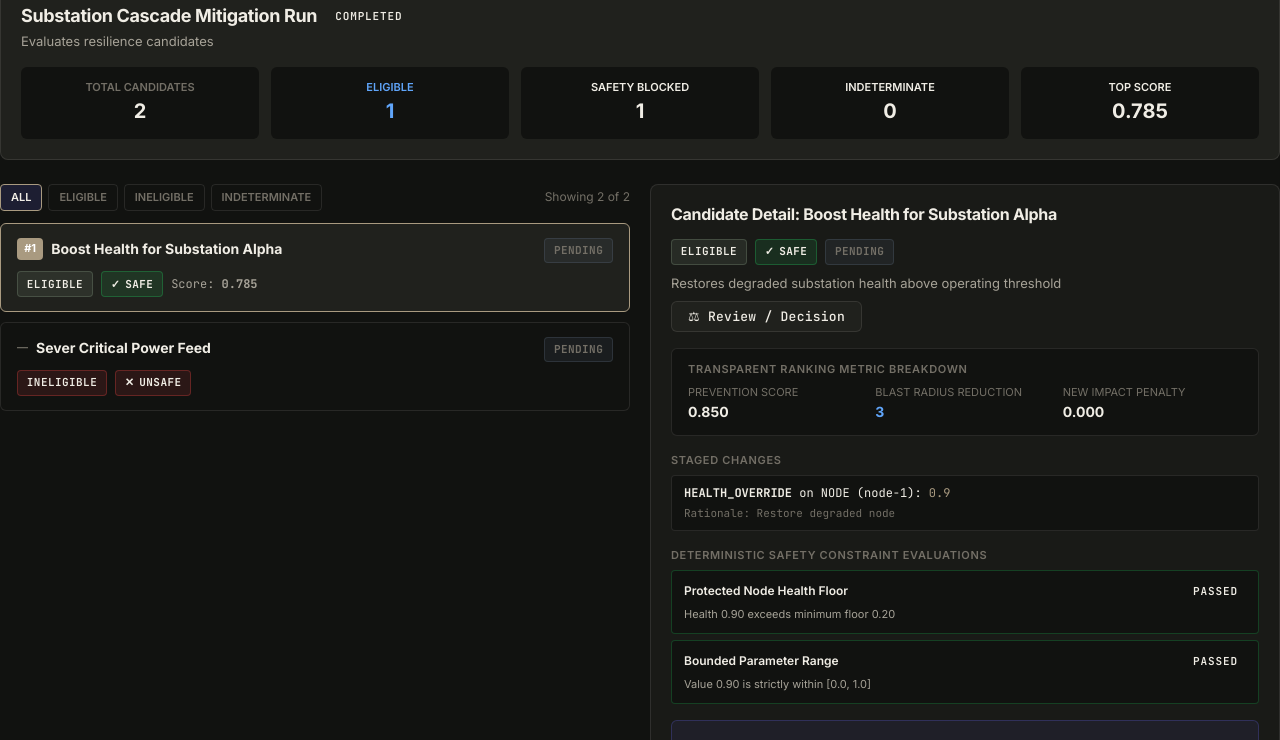
Recommendations Page (/app/recommendations) › displays safety constraint evaluations and blocker rationale
(page scrolled)
Expected: the text "Protected Node Health Floor" is shown, [684,582,848,601]
Expected: the text "Health 0.90 exceeds minimum floor 0.20" is shown, [684,607,895,621]
Click on the ineligible candidate
Step 1. Click the element with test id "candidate-card-cand-2" → (315, 366), box [0,322,630,411]
(page scrolled)
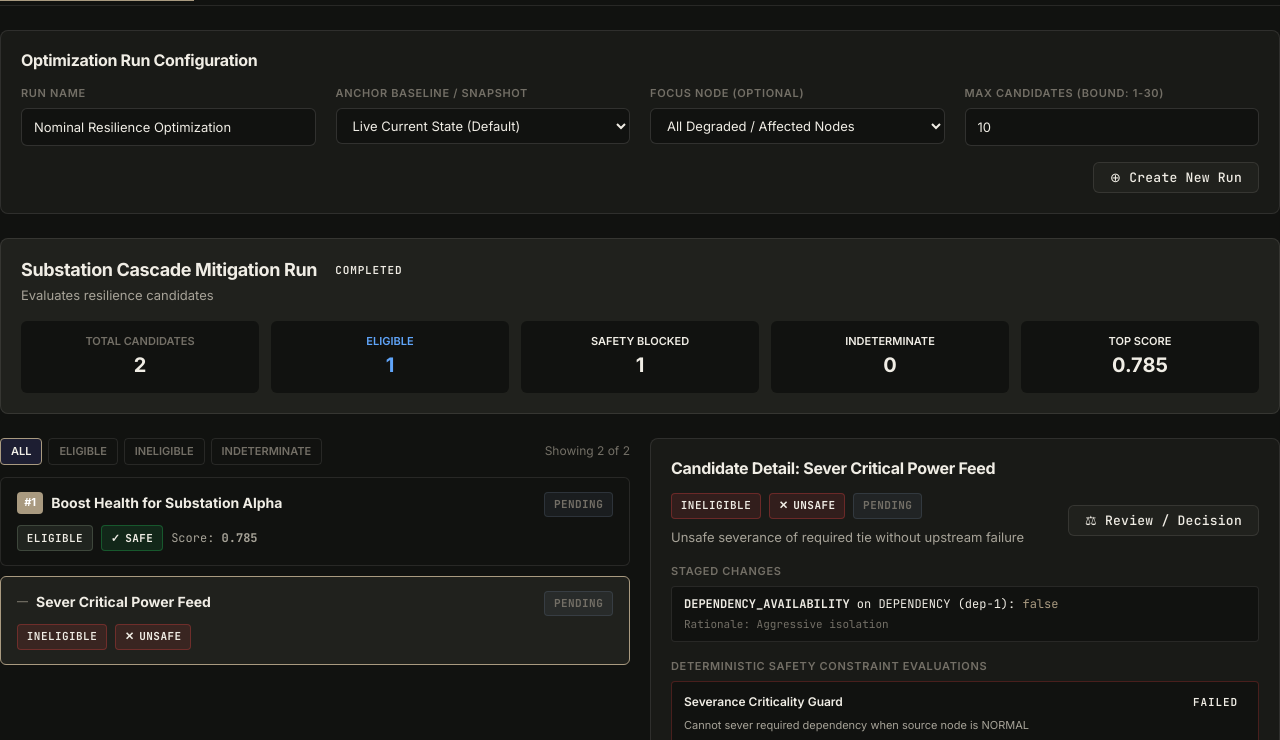
Expected: the text "Severance Criticality Guard" is shown, [684,693,843,712]
Expected: the text "Cannot sever required dependency when source node is NORMAL" is shown, [684,718,1029,732]
